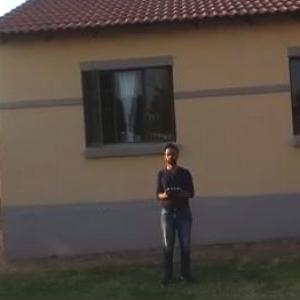follow: (155, 135, 197, 290)
